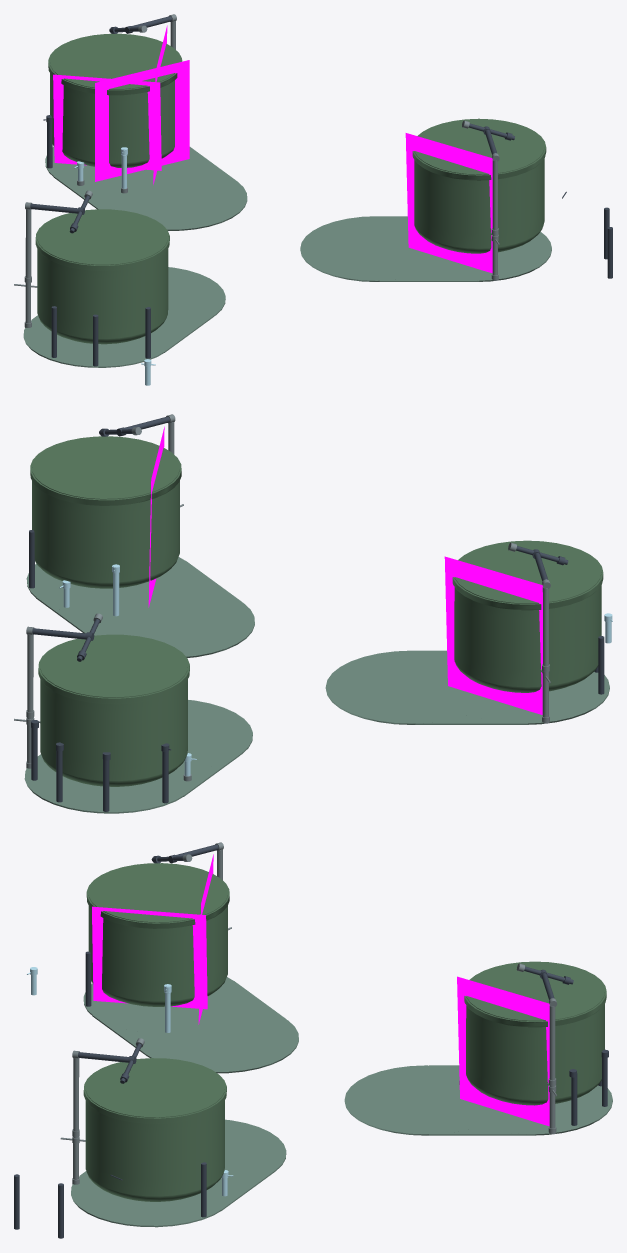
File: fluids.gltf
3 renders of one model, top to bottom at view 1: azimuth 30°, elevation 25°; view 2: azimuth 150°, elevation 25°; view 3: azimuth 270°, elevation 25°, orthographic. The views are drawn at different scales.
Visible parts, largest first — view 1: Cauldron3, Cauldron2, Cauldron1, Base5, Base3, BakedFluidsimData1, Base7, BakedFluidsimData6, Base4, Base1, Base8, BakedFluidsimData2 (+6 smaller); view 2: Cauldron2, Cauldron1, Cauldron3, Base8, Base5, Base4, Base1, BakedFluidsimData9, Base7, Base3, CauldronRing1, CauldronRing2 (+8 smaller); view 3: Cauldron2, Cauldron3, Cauldron1, Base3, Base8, Base4, Base7, BakedFluidsimData3, Base1, Base5, BakedFluidsimData8, CauldronRing2 (+6 smaller).
Boxes of the visible parts, x1=… form: Cauldron3: x1=37, y1=209, x2=168, y2=338; Cauldron2: x1=414, y1=119, x2=544, y2=248; Cauldron1: x1=50, y1=33, x2=180, y2=163; Base5: x1=300, y1=216, x2=425, y2=281; Base3: x1=94, y1=167, x2=247, y2=230; BakedFluidsimData1: x1=95, y1=60, x2=189, y2=181; Base7: x1=23, y1=316, x2=176, y2=367; BakedFluidsimData6: x1=405, y1=133, x2=492, y2=273; Base4: x1=399, y1=232, x2=551, y2=281; Base1: x1=45, y1=146, x2=197, y2=193; Base8: x1=166, y1=267, x2=225, y2=328; BakedFluidsimData2: x1=53, y1=74, x2=161, y2=170; Cauldron2: x1=32, y1=436, x2=179, y2=582; Cauldron1: x1=40, y1=634, x2=187, y2=780; Cauldron3: x1=454, y1=540, x2=601, y2=687; Base8: x1=325, y1=650, x2=467, y2=724; Base5: x1=82, y1=587, x2=254, y2=657; Base4: x1=26, y1=557, x2=199, y2=616; Base1: x1=24, y1=755, x2=197, y2=813; BakedFluidsimData9: x1=444, y1=556, x2=542, y2=714; Base7: x1=437, y1=670, x2=609, y2=724; Base3: x1=187, y1=700, x2=252, y2=768; CauldronRing1: x1=38, y1=634, x2=189, y2=704; CauldronRing2: x1=30, y1=436, x2=181, y2=505; Cauldron2: x1=85, y1=1058, x2=224, y2=1196; Cauldron3: x1=88, y1=863, x2=227, y2=1001; Cauldron1: x1=466, y1=961, x2=604, y2=1099; Base3: x1=344, y1=1065, x2=477, y2=1135; Base8: x1=136, y1=1005, x2=298, y2=1073; Base4: x1=71, y1=1171, x2=233, y2=1227; Base7: x1=83, y1=977, x2=246, y2=1033; BakedFluidsimData3: x1=457, y1=976, x2=549, y2=1126; Base1: x1=450, y1=1084, x2=612, y2=1135; Base5: x1=224, y1=1119, x2=286, y2=1185; BakedFluidsimData8: x1=92, y1=906, x2=207, y2=1009; CauldronRing2: x1=83, y1=1058, x2=226, y2=1123.
Size of what is drawn, in the model's own units: 111 by 27.77 by 103.
